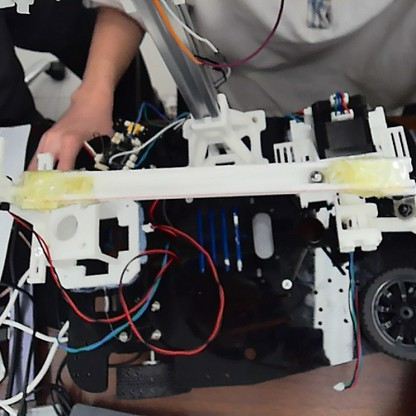ironball: (306, 166, 325, 184)
